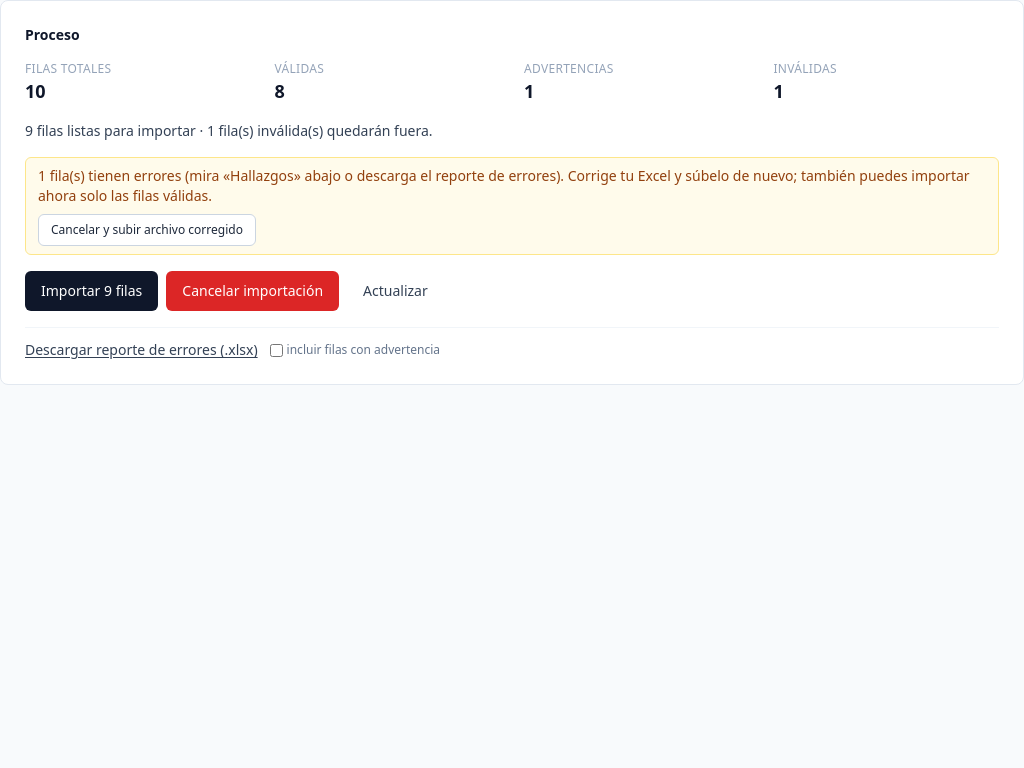
it: ImportPipeline › asks for confirmation in a modal, and a "proceso completado" modal appears once the confirmed job finishes
Click the button "Importar 9 filas".
click(92, 291)  # box top-left (25, 271), bottom-right (158, 311)
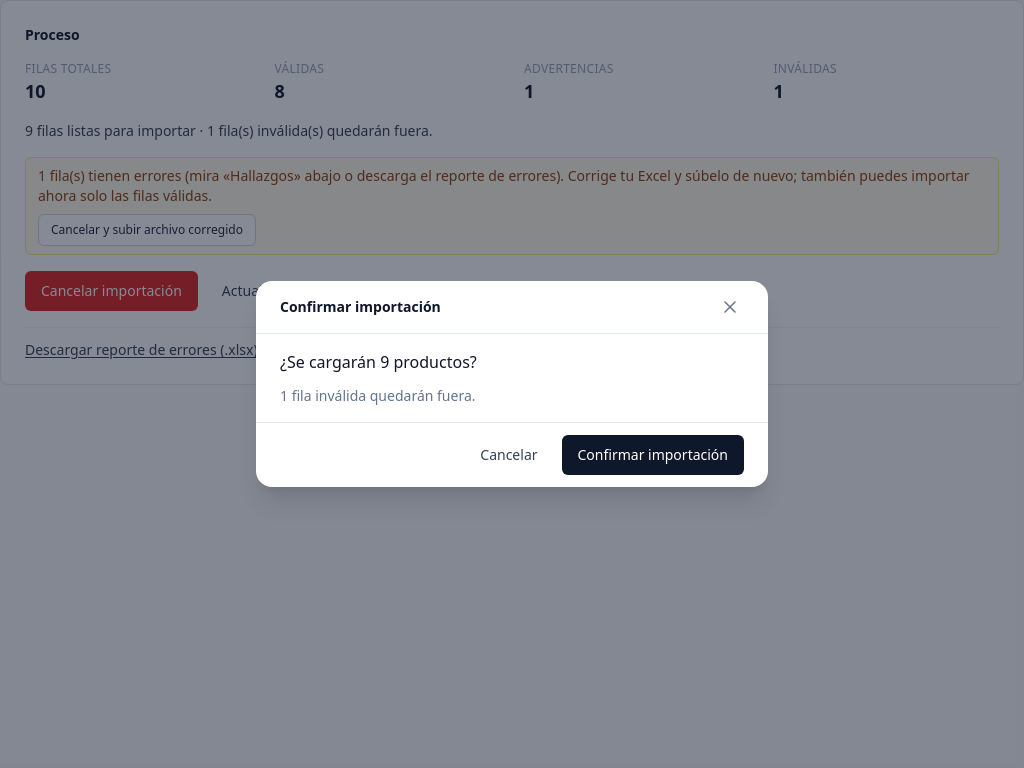
Now the dialog "Confirmar importación" is shown, box top-left (256, 281), bottom-right (768, 487)
Now the text "¿Se cargarán 9 productos?" is shown, box top-left (280, 351), bottom-right (477, 373)
Click the button "Confirmar importación".
click(653, 455)  # box top-left (562, 435), bottom-right (744, 475)
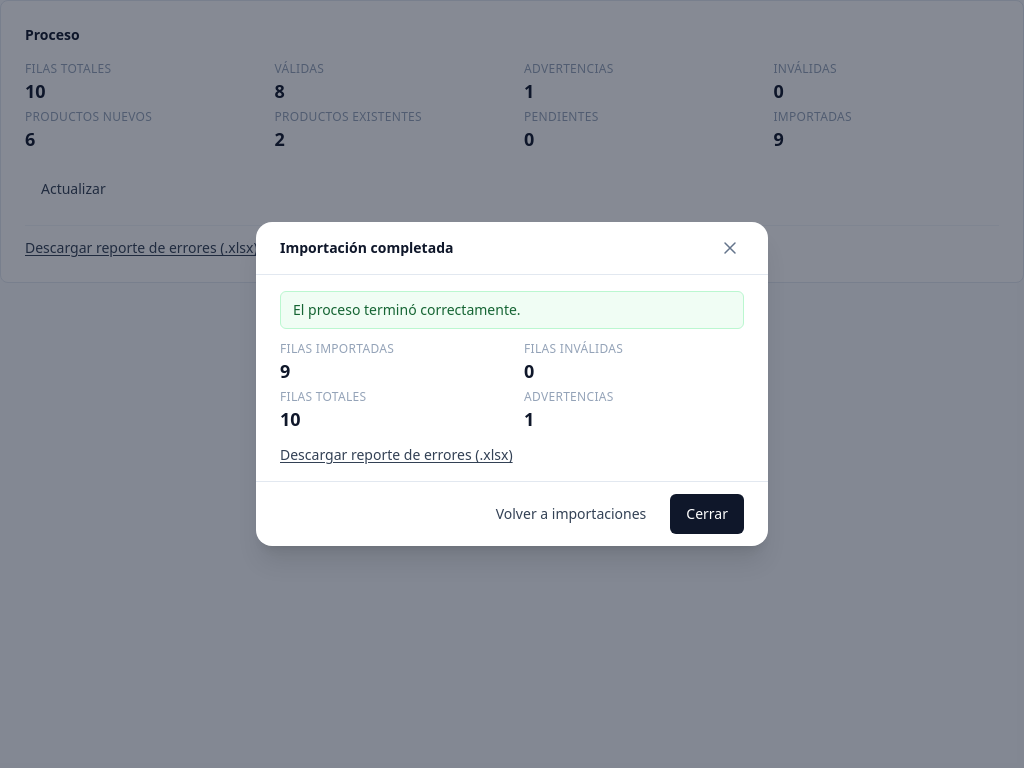
Now the dialog "Importación completada" is shown, box top-left (256, 222), bottom-right (768, 546)
Now the text "El proceso terminó correctamente." is shown, box top-left (293, 300), bottom-right (521, 319)
